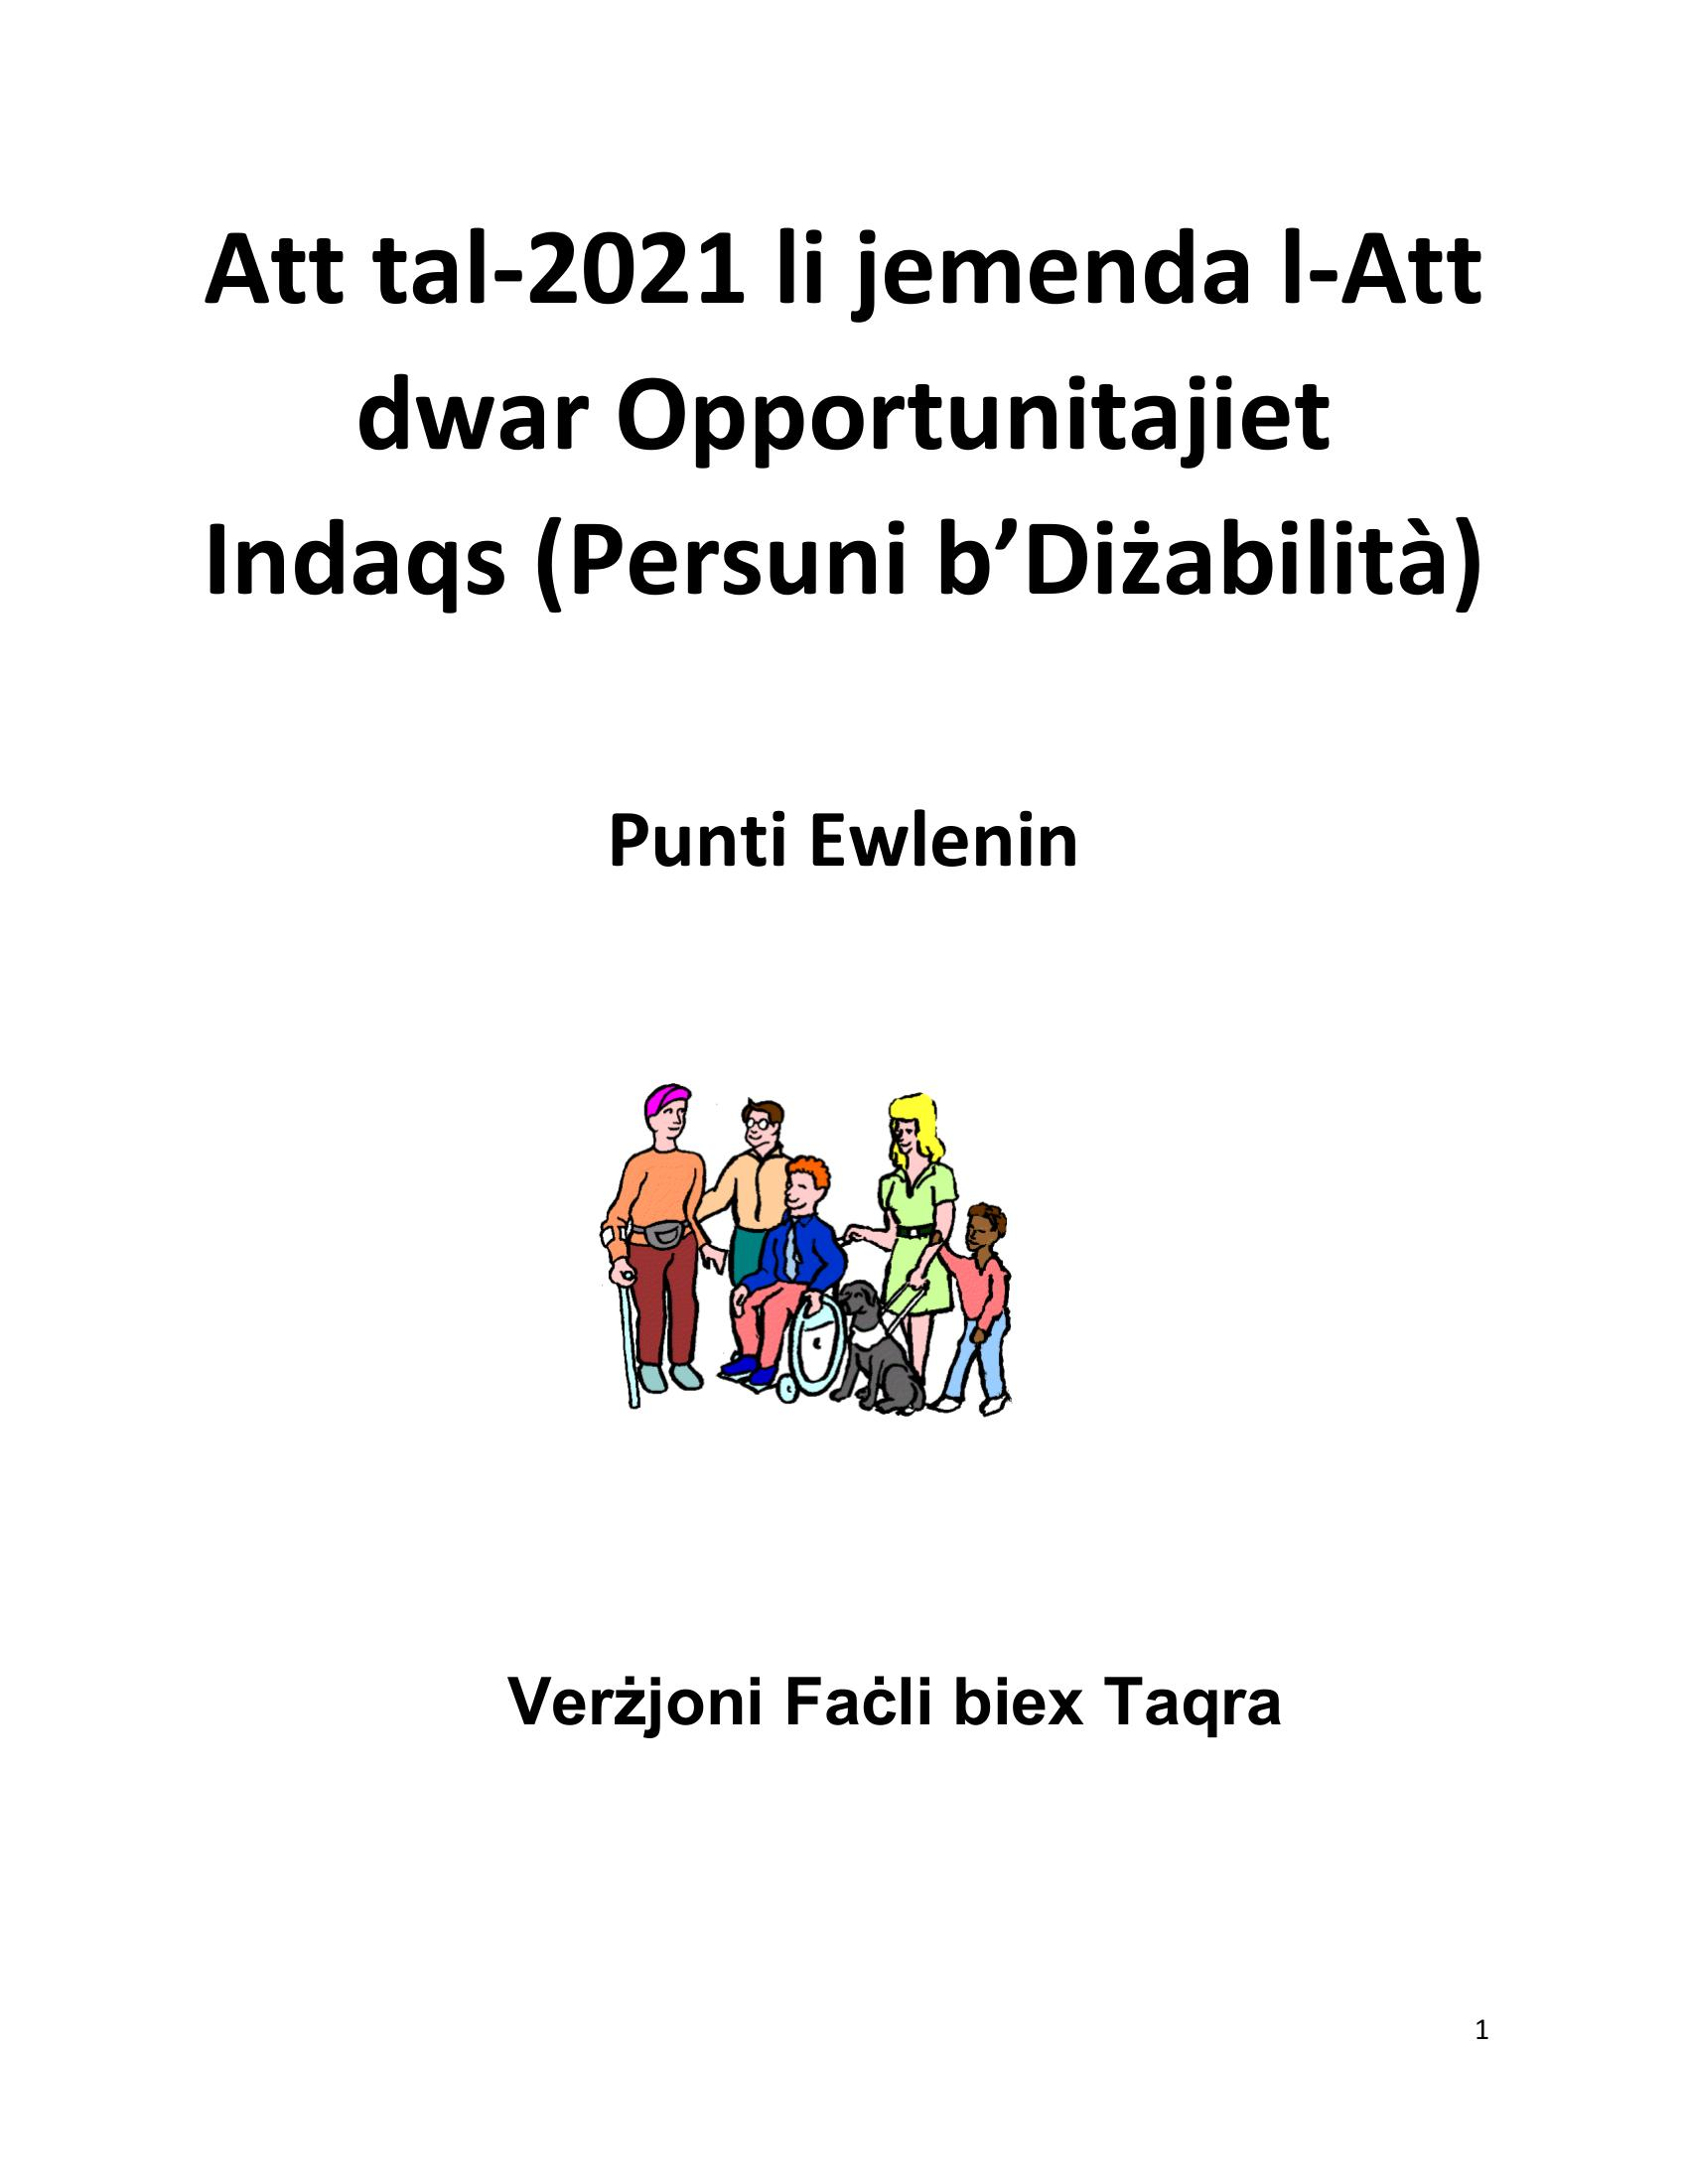text: (176, 199, 1518, 920), (479, 1631, 1303, 1780)
